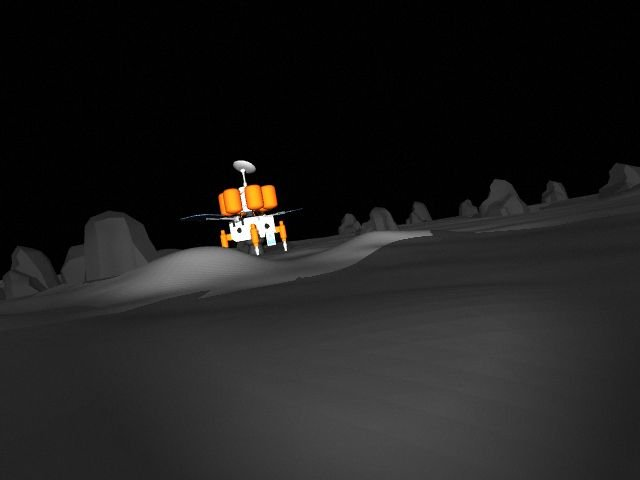homebase: (177, 156, 316, 260)
